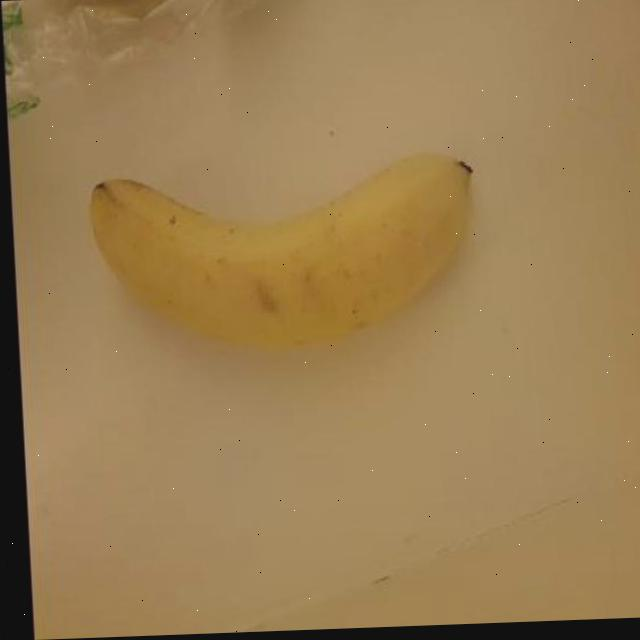banana: (75, 134, 492, 380)
